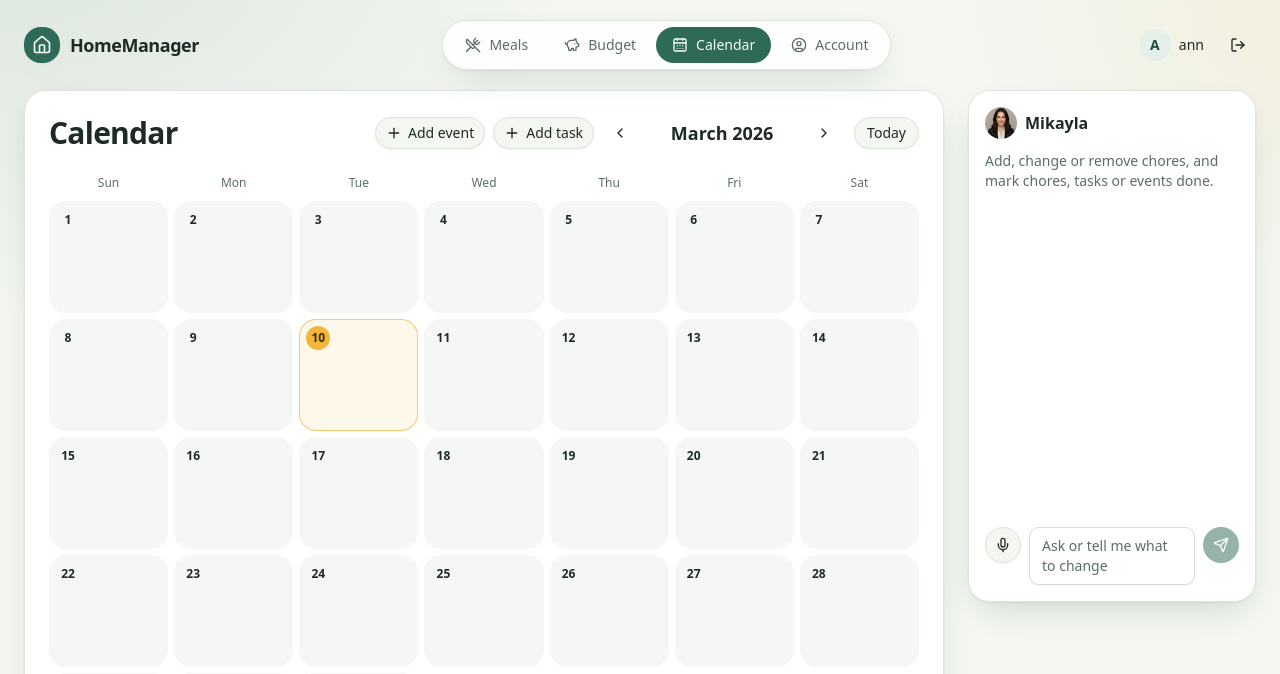
Test: AssistantPanel › reloads the page and the signed-in user when the assistant changed something
Expected: the button named "Tuesday, March 10" is shown, [299, 319, 418, 431]
Type "Mark bins done" into the text box named "Message Mikayla" at (1112, 556), box [1029, 527, 1195, 585]
Then press Enter
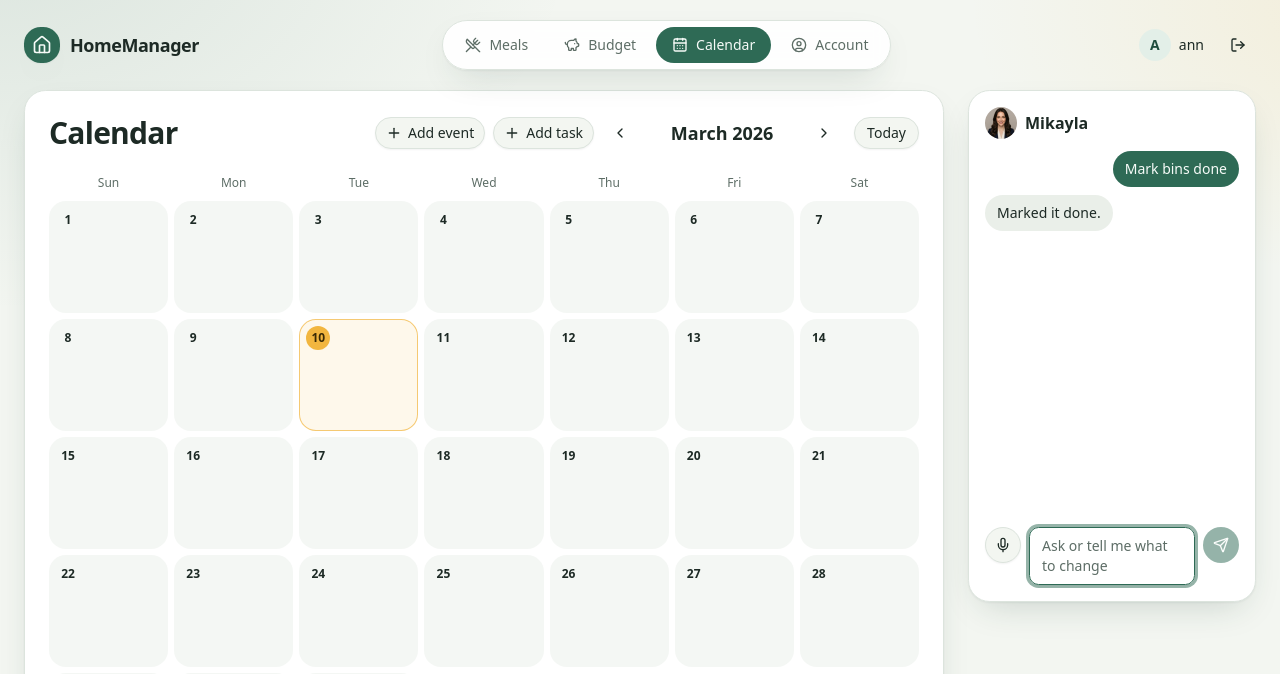
Now the list item "Marked it done." is shown, box [985, 195, 1113, 231]
